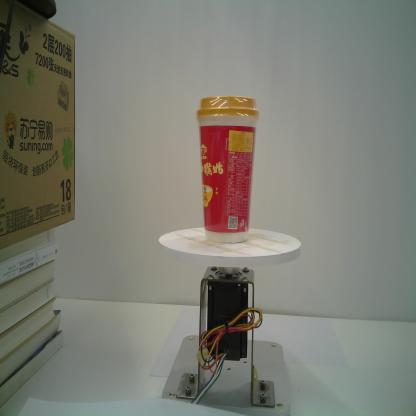Instant Drink: (196, 93, 261, 244)
